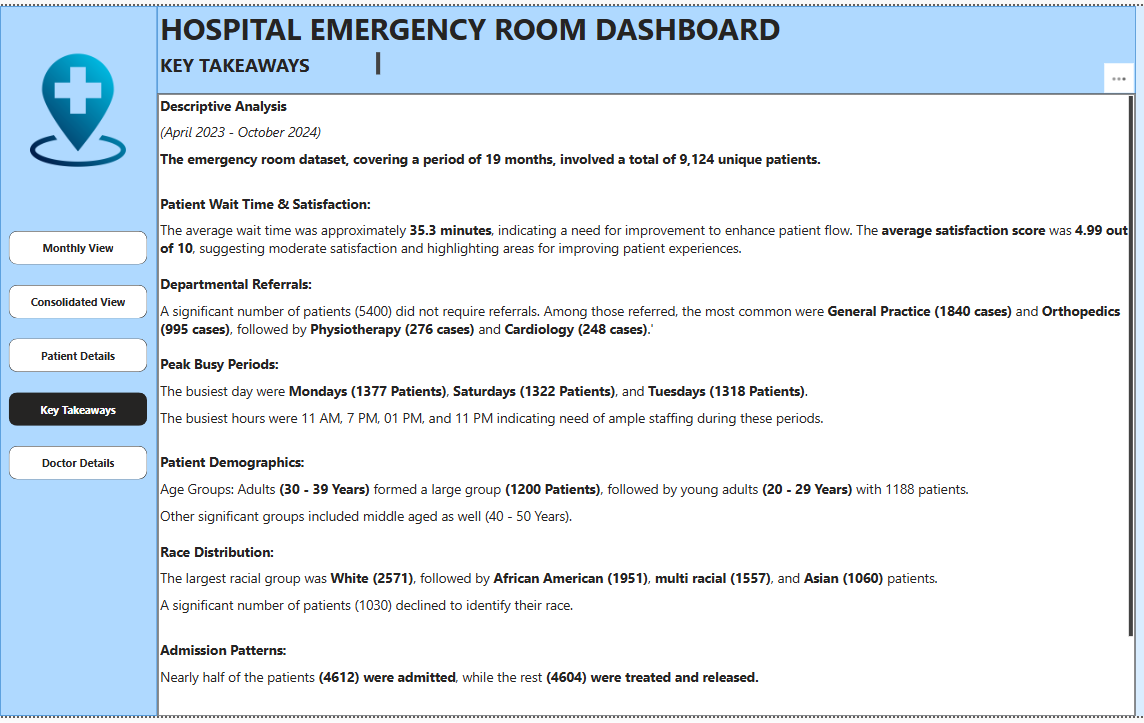

The page's visual inventory and layout, read from the dashboard file:
{"tool":"powerbi","page":{"name":"Key Takeaways","canvas":[2300,1400],"ordinal":3},"visuals":[{"type":"shape","box":[9.8,0,310,1400],"z":0},{"type":"shape","box":[319.5,0,1929.3,173.2],"z":1000},{"type":"textbox","box":[320,0,1267.5,102.5],"z":2000},{"type":"textbox","box":[320.5,86.3,443.8,56.7],"z":3000},{"type":"image","box":[46,88,234,234],"z":4000},{"type":"textbox","box":[320,173,1929,1227],"z":5000},{"type":"pageNavigator","box":[27.1,443.8,273.7,493.1],"z":6000}]}

Visuals, with their boxes on the page's 2300x1400 design canvas (x1, y1, x2, y2). These are canvas units, not pixel positions in the 1144x723 screenshot, which may show the page scaled, cropped or inside an application window:
shape: 10,0,320,1400
shape: 320,0,2249,173
textbox: 320,0,1588,102
textbox: 320,86,764,143
image: 46,88,280,322
textbox: 320,173,2249,1400
pageNavigator: 27,444,301,937
